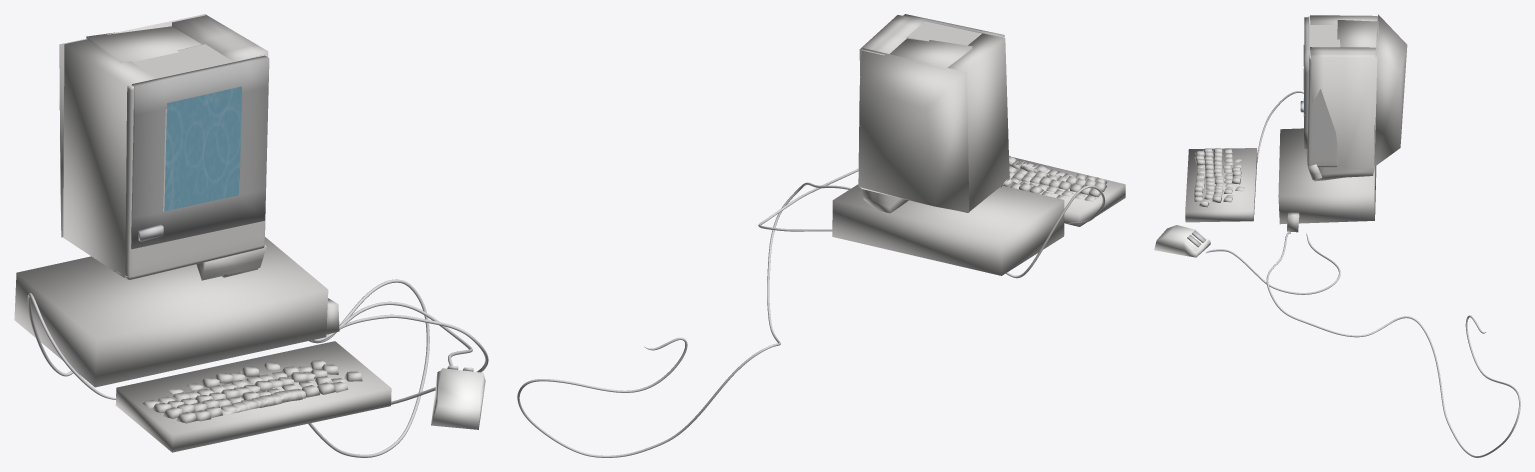
3 renders of one model, left to right at view 1: azimuth 30°, elevation 25°; view 2: azimuth 150°, elevation 25°; view 3: azimuth 270°, elevation 25°, orthographic. The views are drawn at different scales.
Parts seen in each view (by area): view 1: mac.obj, Plane; view 2: mac.obj; view 3: mac.obj.
Part boxes in pixels (bbox=[...]): mac.obj: bbox=[14, 14, 488, 457]; Plane: bbox=[164, 86, 241, 211]; mac.obj: bbox=[517, 14, 1125, 457]; mac.obj: bbox=[1154, 14, 1520, 457].
Size of the model in its own units: 7609 by 7017 by 7145.
